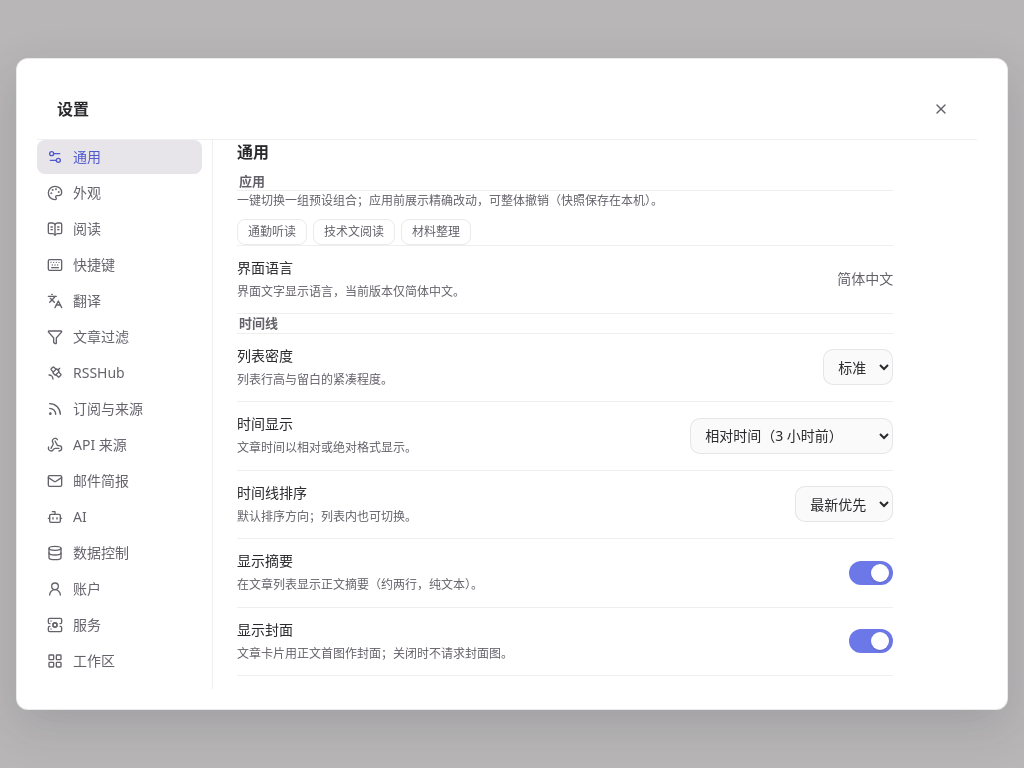
分类页 planned 语义（AC10） › AI 页：用途分配 / Profile / 默认配置真实可用（浏览器可管理 Key）
The image size is (1024, 768).
Step 1. Click the button "AI" → (120, 517), box [37,500,202,534]
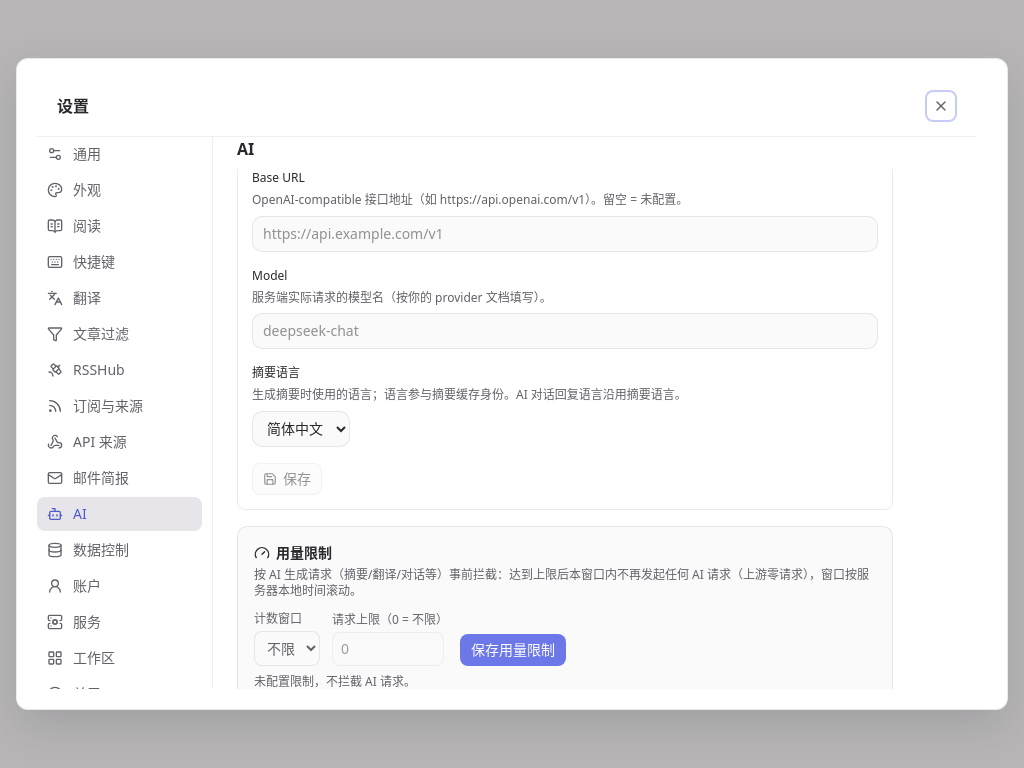
Check: the field named "默认 Base URL" is shown, box [252,216,878,252]
Check: the field named "默认 Model" is shown, box [252,313,878,349]
Check: the dropdown named "摘要语言" is shown, box [252,411,350,447]
